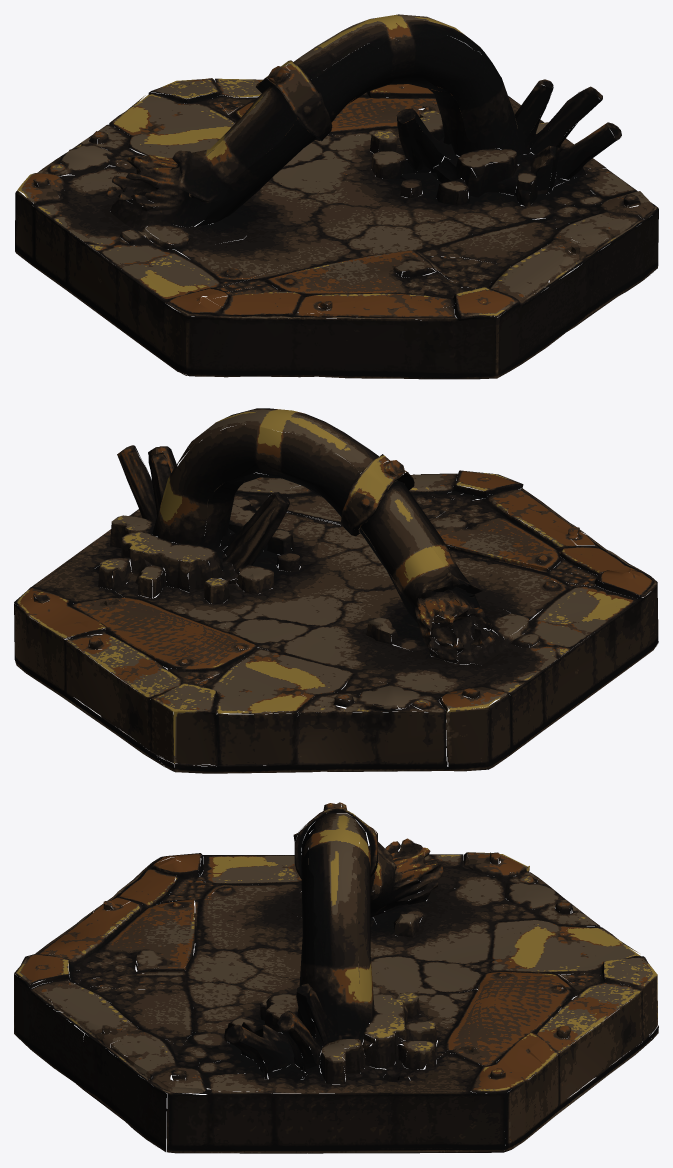
The model's file is tr_wire.glb.
3 renders of one model, top to bottom at view 1: azimuth 30°, elevation 25°; view 2: azimuth 150°, elevation 25°; view 3: azimuth 270°, elevation 25°, orthographic.
Visible parts, largest first — view 1: tr_wire; view 2: tr_wire; view 3: tr_wire.
Boxes of the visible parts, x1,y1,x2,y2 form: tr_wire: (15, 14, 658, 379); tr_wire: (14, 408, 658, 773); tr_wire: (14, 802, 658, 1153).
Size of the model in its own units: 1.29 by 0.5928 by 1.5.
1 material, 1 textured.
